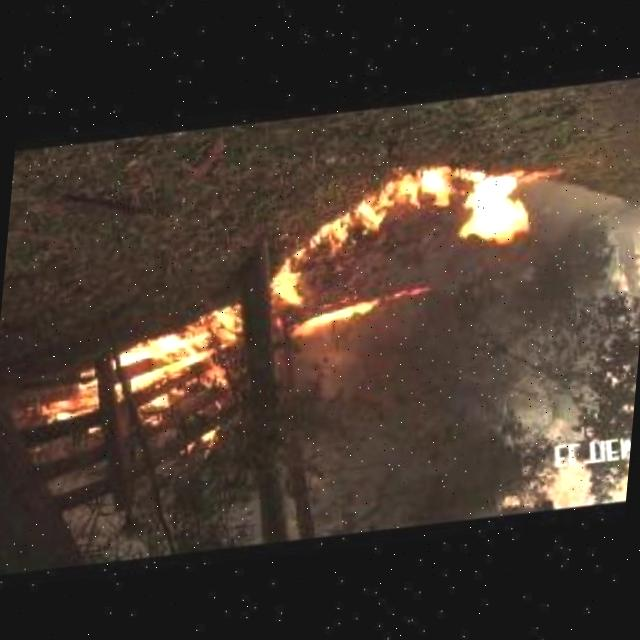fire: (348, 142, 548, 280), (98, 292, 266, 445), (260, 207, 371, 317), (291, 294, 385, 346), (34, 365, 106, 431), (389, 281, 437, 307), (200, 425, 231, 463)
